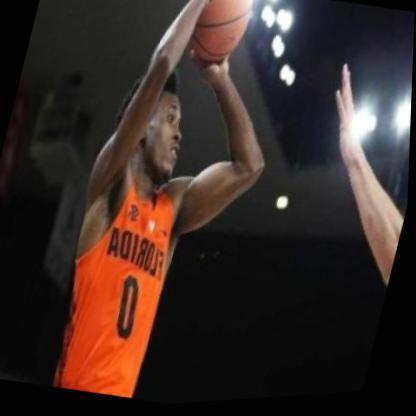basketball: (176, 0, 261, 77)
